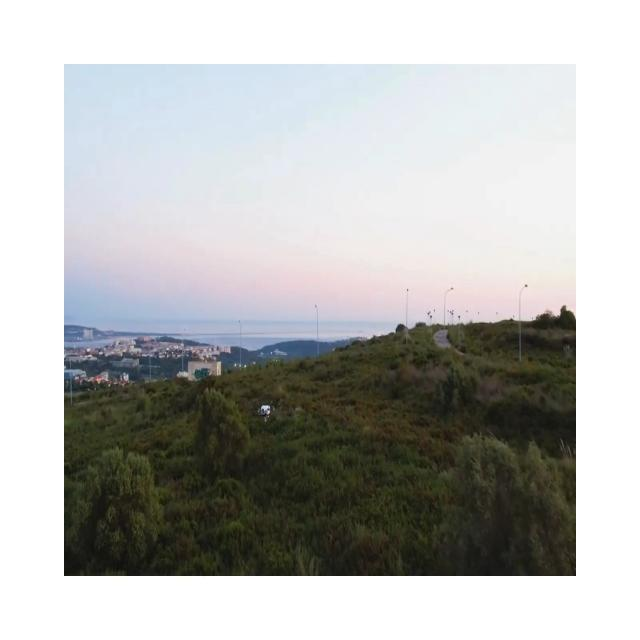drone: (252, 401, 276, 423)
